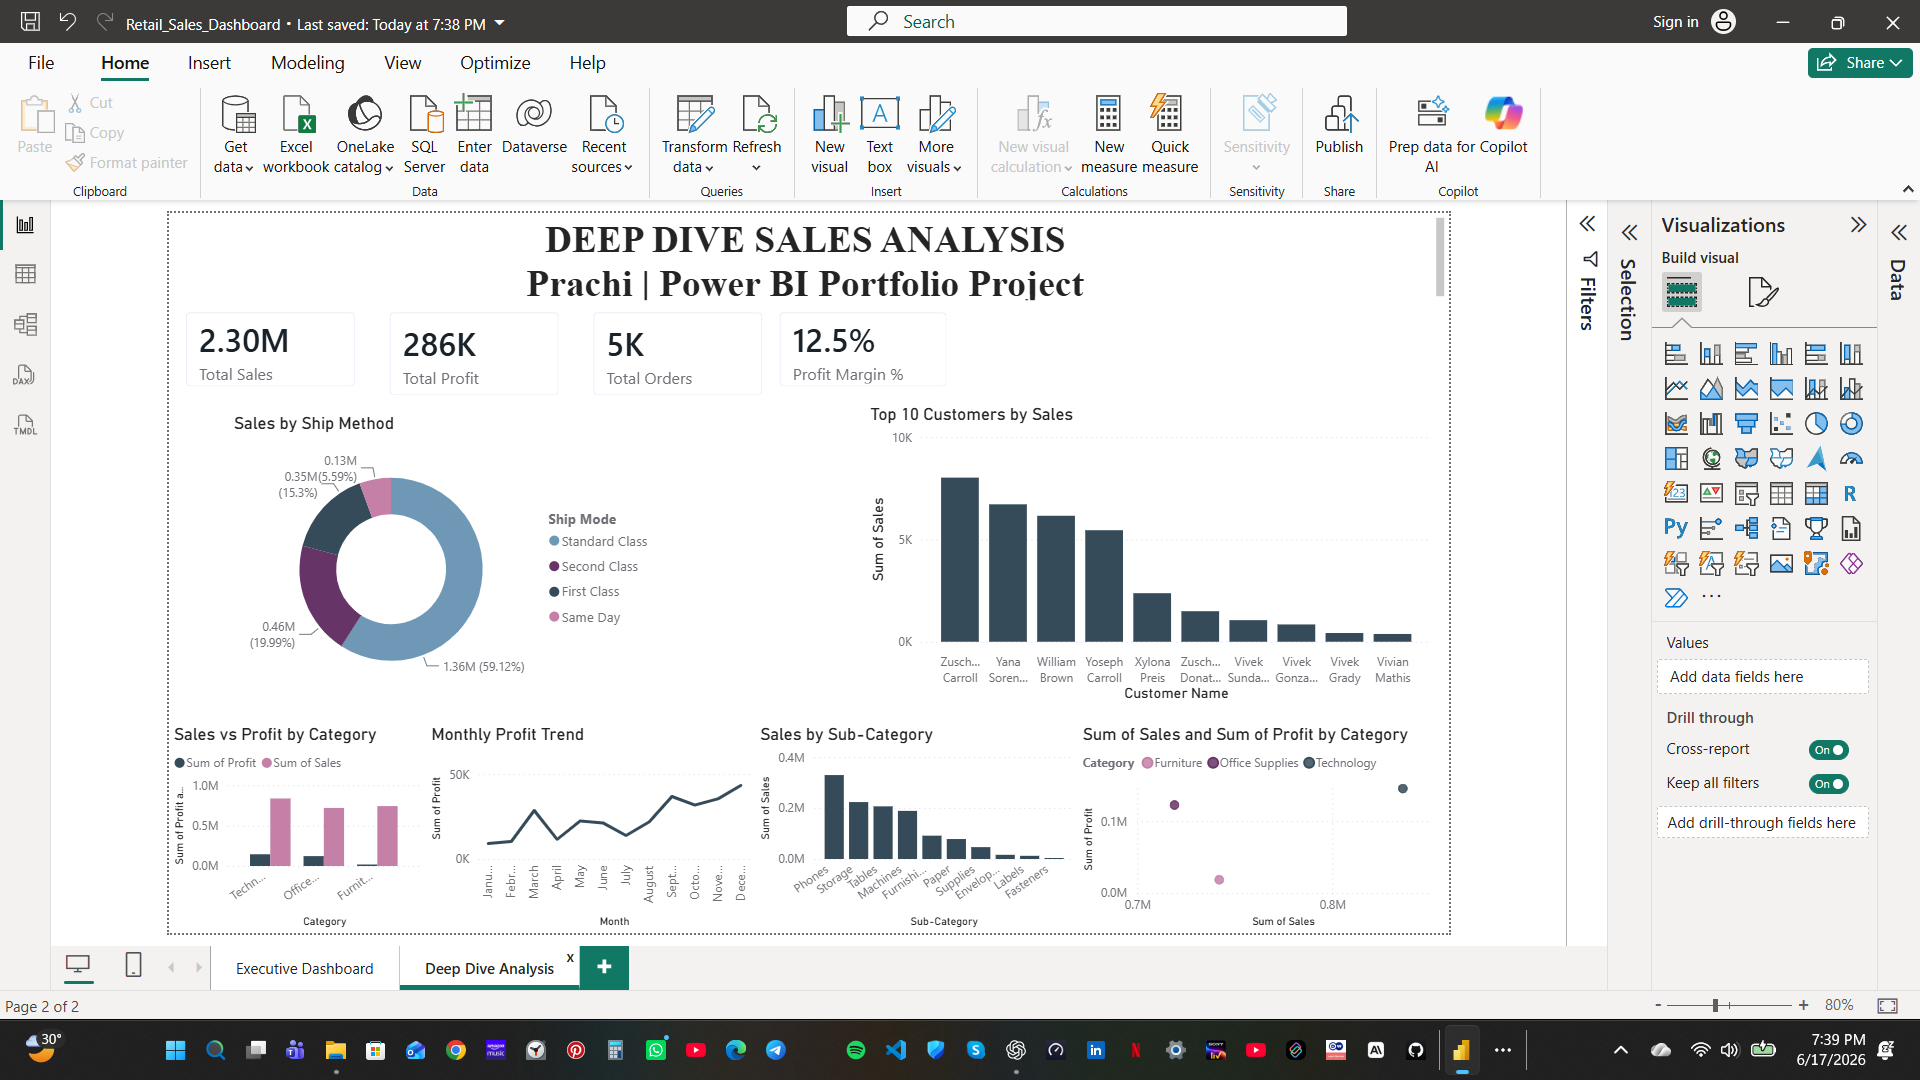

What the dashboard file says about the page in this screenshot:
{"tool":"powerbi","page":{"name":"Deep Dive Analysis","canvas":[1280,720],"ordinal":1},"visuals":[{"type":"clusteredColumnChart","title":"Sales vs Profit by Category","fields":{"Category":["Sample - Superstore.Category"],"Y":["Sum(Sample - Superstore.Profit)","Sum(Sample - Superstore.Sales)"]},"box":[0,511.2,257.5,208.8],"z":0},{"type":"donutChart","title":"Sales by Ship Method","fields":{"Category":["Sample - Superstore.Ship Mode"],"Y":["Sum(Sample - Superstore.Sales)"]},"box":[60,200,432.5,293.8],"z":1},{"type":"clusteredColumnChart","title":"Top 10 Customers by Sales","fields":{"Category":["Sample - Superstore.Customer Name"],"Y":["Sum(Sample - Superstore.Sales)"]},"box":[696.2,191.2,571.2,302.5],"z":2},{"type":"lineChart","title":"Monthly Profit Trend","fields":{"Category":["Sample - Superstore.Order Date.Variation.Date Hierarchy.Month"],"Y":["Sum(Sample - Superstore.Profit)"]},"box":[257.5,511.2,328.8,208.8],"z":3},{"type":"columnChart","title":"Sales by Sub-Category","fields":{"Category":["Sample - Superstore.Sub-Category"],"Y":["Sum(Sample - Superstore.Sales)"]},"box":[586.2,511.2,323.8,208.8],"z":4},{"type":"scatterChart","fields":{"X":["Sum(Sample - Superstore.Sales)"],"Y":["Sum(Sample - Superstore.Profit)"],"Series":["Sample - Superstore.Category"]},"box":[908.8,511.2,371.2,208.8],"z":5},{"type":"cardVisual","fields":{"Data":["Sample - Superstore.Total Sales"]},"box":[0,82.5,203.8,108.8],"z":6},{"type":"cardVisual","fields":{"Data":["Sample - Superstore.Total Orders"]},"box":[407.5,82.5,203.8,117.5],"z":7},{"type":"cardVisual","fields":{"Data":["Sample - Superstore.Total Profit"]},"box":[203.8,82.5,203.8,117.5],"z":8},{"type":"cardVisual","fields":{"Data":["Sample - Superstore.Profit Margin %"]},"box":[593.8,82.5,201.2,108.8],"z":9},{"type":"textbox","box":[0,0,1280,92.5],"z":10}]}

Visuals, with their boxes on the page's 1280x720 design canvas (x1, y1, x2, y2). These are canvas units, not pixel positions in the 1920x1080 screenshot, which may show the page scaled, cropped or inside an application window:
"Sales vs Profit by Category" clusteredColumnChart: <bbox>0, 511, 258, 720</bbox>
"Sales by Ship Method" donutChart: <bbox>60, 200, 492, 494</bbox>
"Top 10 Customers by Sales" clusteredColumnChart: <bbox>696, 191, 1267, 494</bbox>
"Monthly Profit Trend" lineChart: <bbox>258, 511, 586, 720</bbox>
"Sales by Sub-Category" columnChart: <bbox>586, 511, 910, 720</bbox>
scatterChart - Sum(Sample - Superstore.Sales) x Sum(Sample - Superstore.Profit): <bbox>909, 511, 1280, 720</bbox>
cardVisual - Sample - Superstore.Total Sales: <bbox>0, 82, 204, 191</bbox>
cardVisual - Sample - Superstore.Total Orders: <bbox>408, 82, 611, 200</bbox>
cardVisual - Sample - Superstore.Total Profit: <bbox>204, 82, 408, 200</bbox>
cardVisual - Sample - Superstore.Profit Margin %: <bbox>594, 82, 795, 191</bbox>
textbox: <bbox>0, 0, 1280, 92</bbox>
